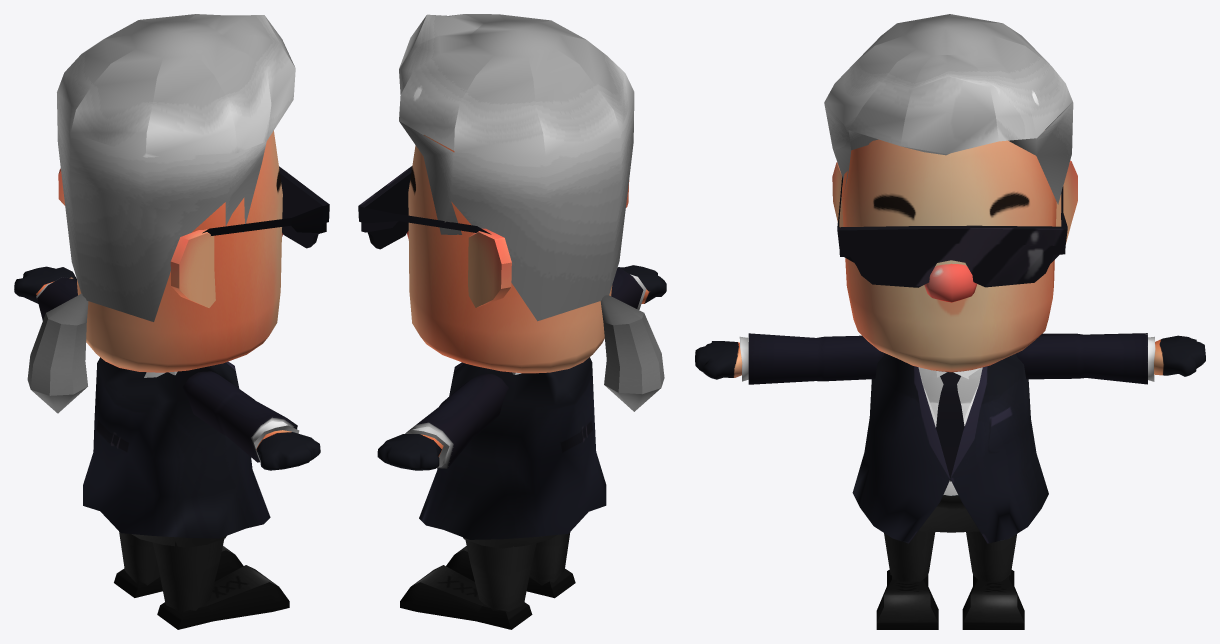
File: Char_Fas_Crea_04.fbx
3 views of the same model, side by side, from view 1: azimuth 30°, elevation 25°; view 2: azimuth 150°, elevation 25°; view 3: azimuth 270°, elevation 25° (orthographic).
Parts seen in each view (by area): view 1: Hair_FD, Cloth_FD, Head_FD, R_Leg_FD, R_Arm_FD, Hair_Horse_Tail_FD, Spectacle_FD, R_Ear_FD, L_Leg_FD, L_Arm_FD, Body_FD; view 2: Hair_FD, Cloth_FD, Head_FD, L_Leg_FD, L_Arm_FD, Hair_Horse_Tail_FD, Spectacle_FD, L_Ear_FD, R_Leg_FD, R_Arm_FD, Body_FD; view 3: Head_FD, Hair_FD, Cloth_FD, Spectacle_FD, L_Arm_FD, R_Arm_FD, R_Leg_FD, L_Leg_FD, Body_FD, Tie_FD, Nose_FD, L_Ear_FD.
Boxes of the visible parts, x1=… form: Hair_FD: x1=57, y1=14, x2=295, y2=321; Cloth_FD: x1=83, y1=357, x2=270, y2=538; Head_FD: x1=77, y1=130, x2=282, y2=372; R_Leg_FD: x1=153, y1=539, x2=289, y2=629; R_Arm_FD: x1=182, y1=371, x2=320, y2=470; Hair_Horse_Tail_FD: x1=27, y1=293, x2=88, y2=413; Spectacle_FD: x1=202, y1=166, x2=329, y2=248; R_Ear_FD: x1=170, y1=229, x2=215, y2=307; L_Leg_FD: x1=114, y1=531, x2=243, y2=597; L_Arm_FD: x1=14, y1=266, x2=86, y2=342; Body_FD: x1=131, y1=372, x2=226, y2=547; Hair_FD: x1=399, y1=14, x2=634, y2=321; Cloth_FD: x1=419, y1=357, x2=606, y2=539; Head_FD: x1=408, y1=135, x2=612, y2=373; L_Leg_FD: x1=400, y1=540, x2=536, y2=629; L_Arm_FD: x1=377, y1=374, x2=508, y2=470; Hair_Horse_Tail_FD: x1=600, y1=295, x2=664, y2=411; Spectacle_FD: x1=358, y1=166, x2=491, y2=249; L_Ear_FD: x1=468, y1=228, x2=511, y2=307; R_Leg_FD: x1=446, y1=532, x2=575, y2=598; R_Arm_FD: x1=611, y1=265, x2=666, y2=309; Body_FD: x1=463, y1=535, x2=556, y2=548; Head_FD: x1=841, y1=139, x2=1056, y2=372; Hair_FD: x1=824, y1=14, x2=1073, y2=204; Cloth_FD: x1=852, y1=353, x2=1048, y2=543; Spectacle_FD: x1=837, y1=176, x2=1067, y2=287; L_Arm_FD: x1=1016, y1=333, x2=1205, y2=384; R_Arm_FD: x1=695, y1=333, x2=884, y2=384; R_Leg_FD: x1=876, y1=530, x2=938, y2=629; L_Leg_FD: x1=962, y1=531, x2=1024, y2=629; Body_FD: x1=918, y1=367, x2=982, y2=532; Tie_FD: x1=936, y1=372, x2=964, y2=481; Nose_FD: x1=924, y1=263, x2=977, y2=302; L_Ear_FD: x1=1056, y1=160, x2=1077, y2=242.
Bounding box in the file's own units: 3.91 × 8.31 × 6.82.
